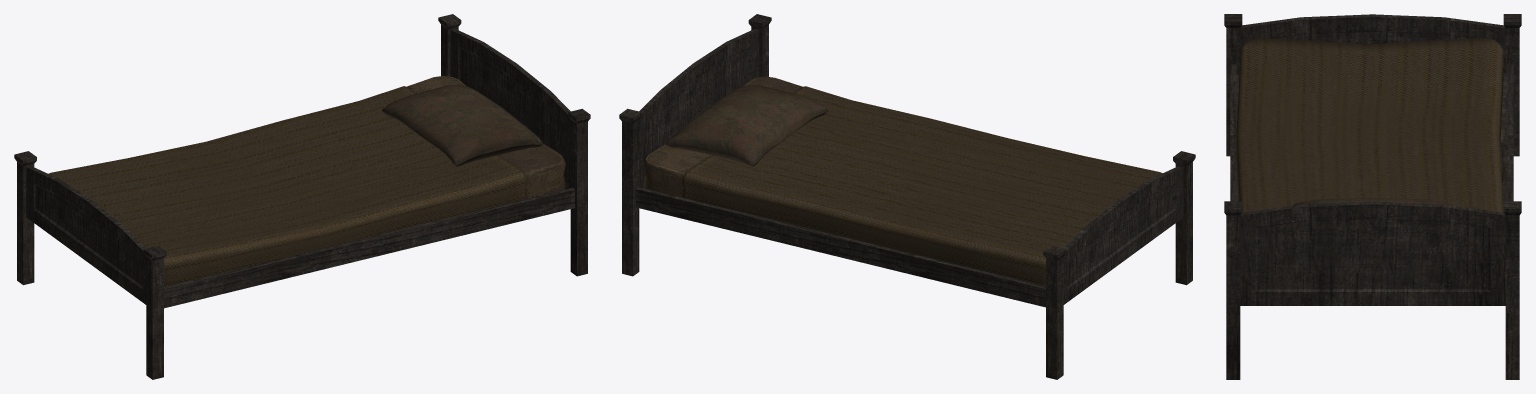
Rendered from bed_5.dae.
3 renders of one model, left to right at view 1: azimuth 30°, elevation 25°; view 2: azimuth 150°, elevation 25°; view 3: azimuth 270°, elevation 25°, orthographic. The views are drawn at different scales.
Parts seen in each view (by area): view 1: bed_5; view 2: bed_5; view 3: bed_5.
Boxes of the visible parts, x1,y1,x2,y2 form: bed_5: (14,14,590,379); bed_5: (619,14,1195,379); bed_5: (1224,14,1521,379).
Bounding box in the file's own units: 2.74 × 1.49 × 0.9621.
Materials: 3 (3 with a texture image).
